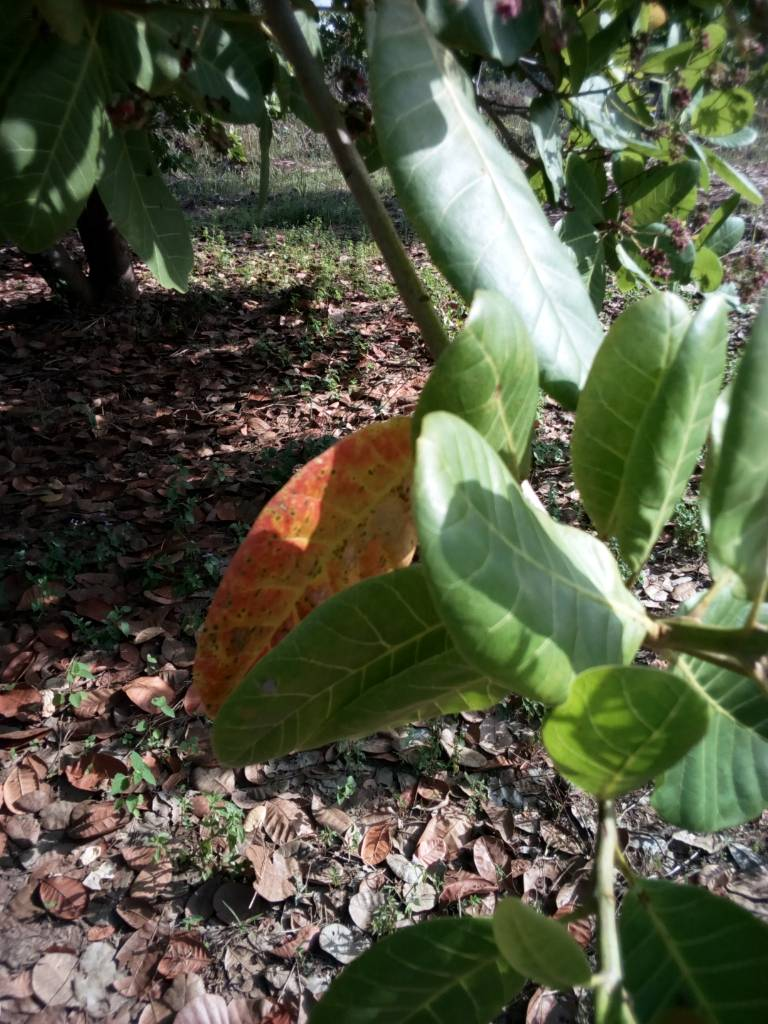Carence minérale: (208, 411, 468, 714)
